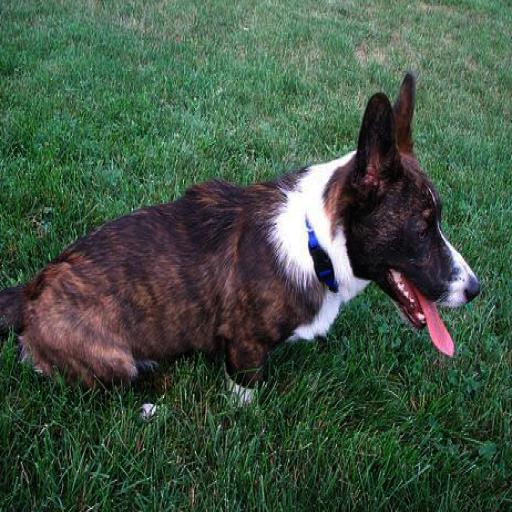dog_face: (338, 68, 485, 363)
